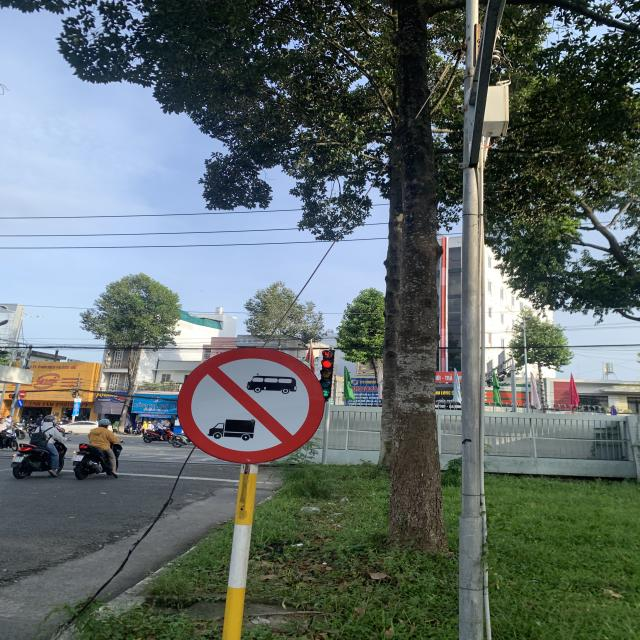Cam_XeTai_XeKhach: (185, 345, 322, 462)
